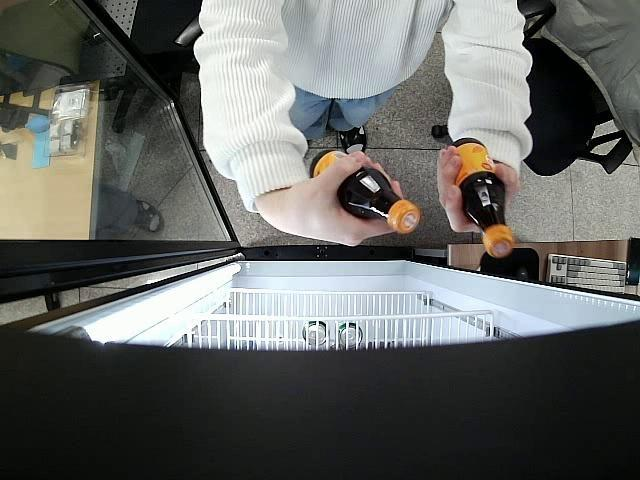17_vita500: (312, 148, 422, 233), (449, 137, 514, 258)
